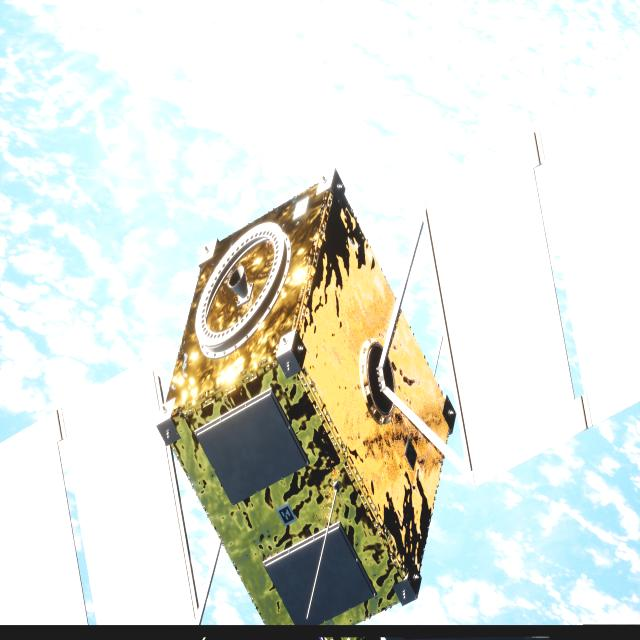satellite: (0, 71, 640, 627)
